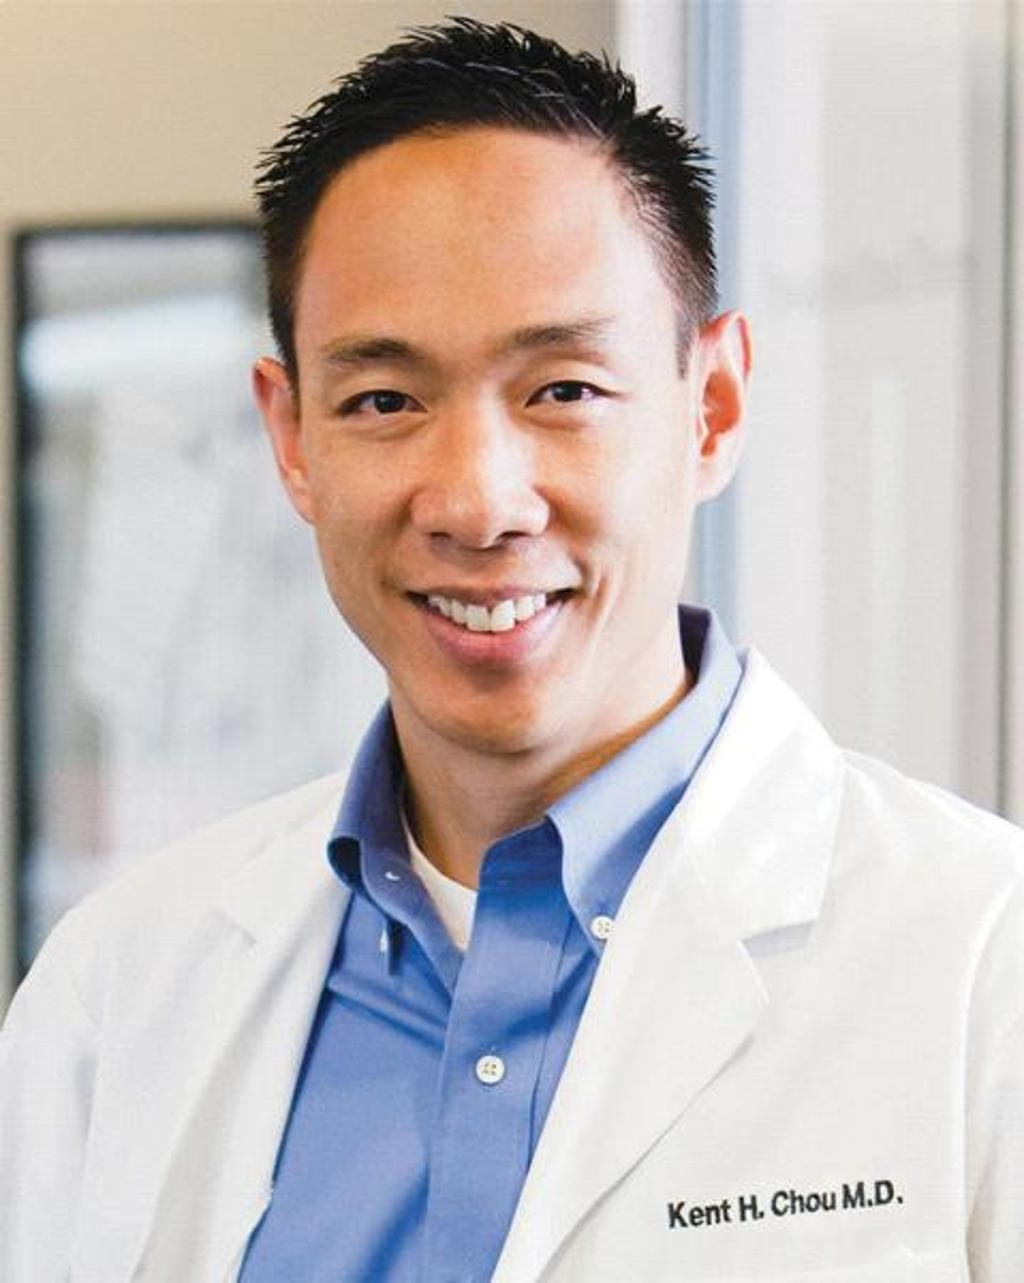face: (295, 148, 681, 751)
